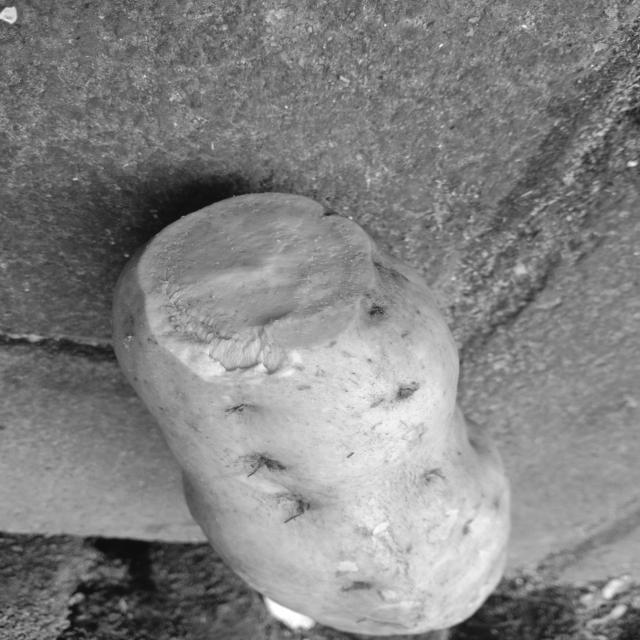Healthy Sweet Potato: (138, 192, 373, 384)
